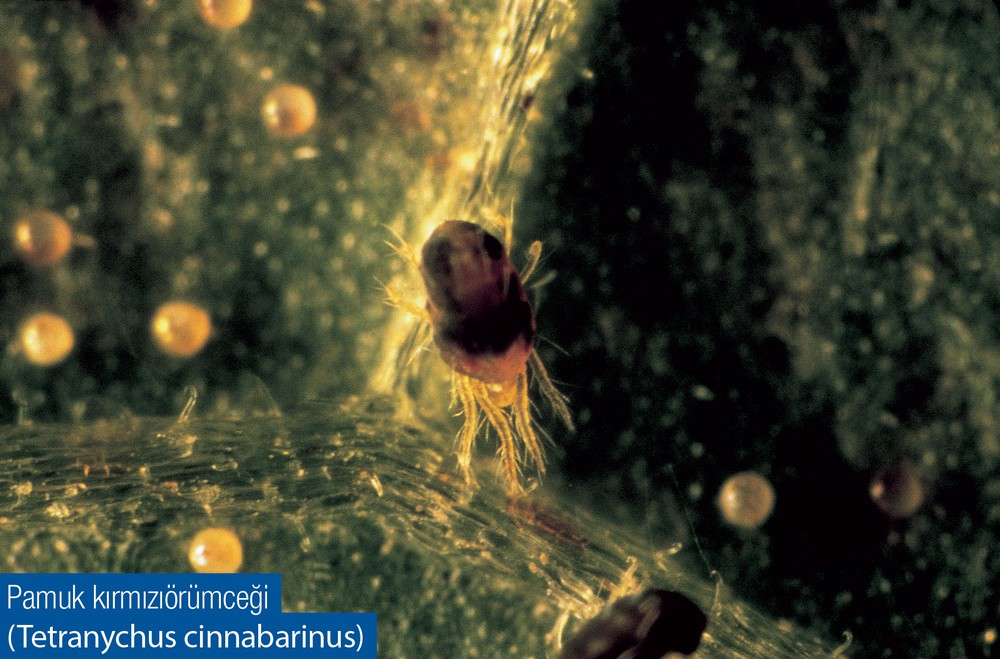Aracnido Rojo: (348, 178, 601, 509)
